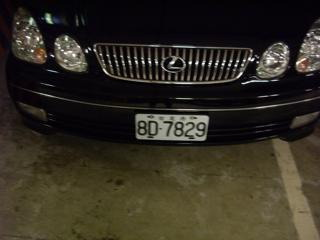plate: (133, 111, 211, 144)
